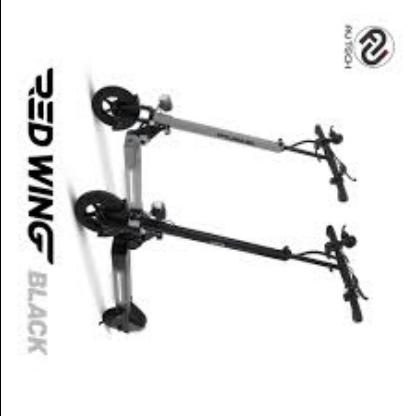bike: (74, 84, 380, 334)
